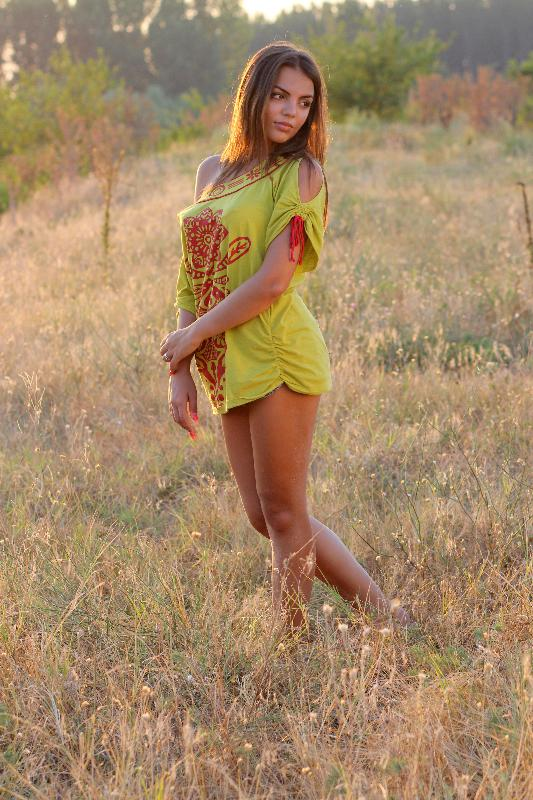Person: (153, 42, 397, 637)
